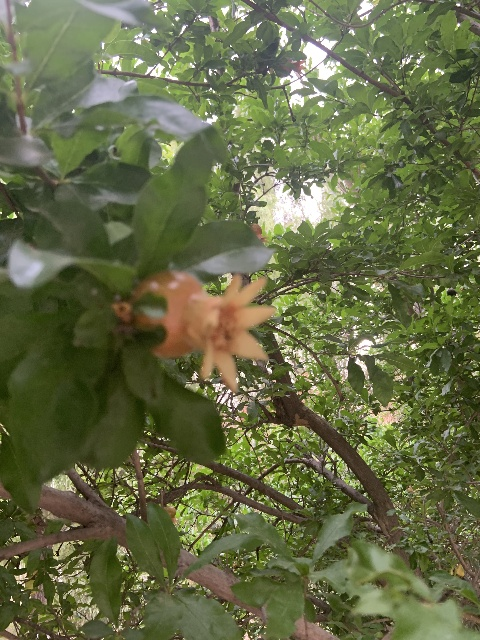early-fruit: (130, 270, 275, 393), (251, 223, 270, 242), (163, 505, 177, 524)
